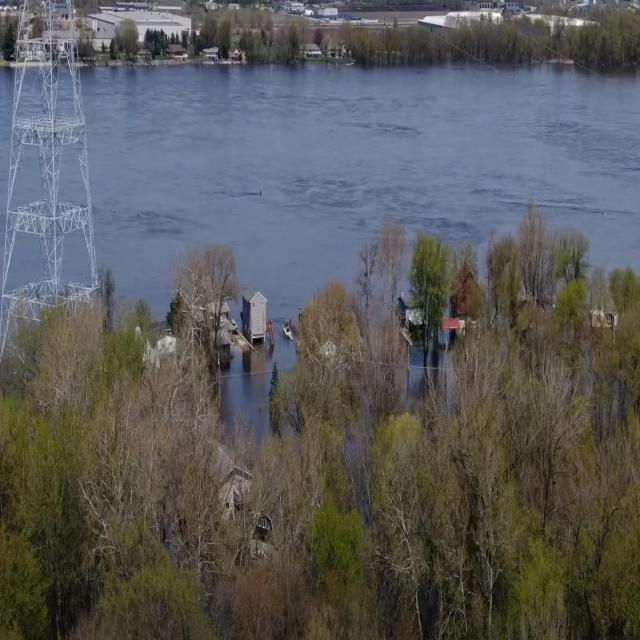flood: (80, 62, 640, 439), (0, 67, 14, 301), (10, 143, 43, 207), (6, 231, 42, 289), (61, 230, 91, 283), (58, 143, 84, 202), (407, 344, 426, 398), (18, 67, 40, 113), (430, 345, 453, 389), (57, 65, 71, 111)
house: (240, 282, 271, 350), (398, 286, 426, 334)
